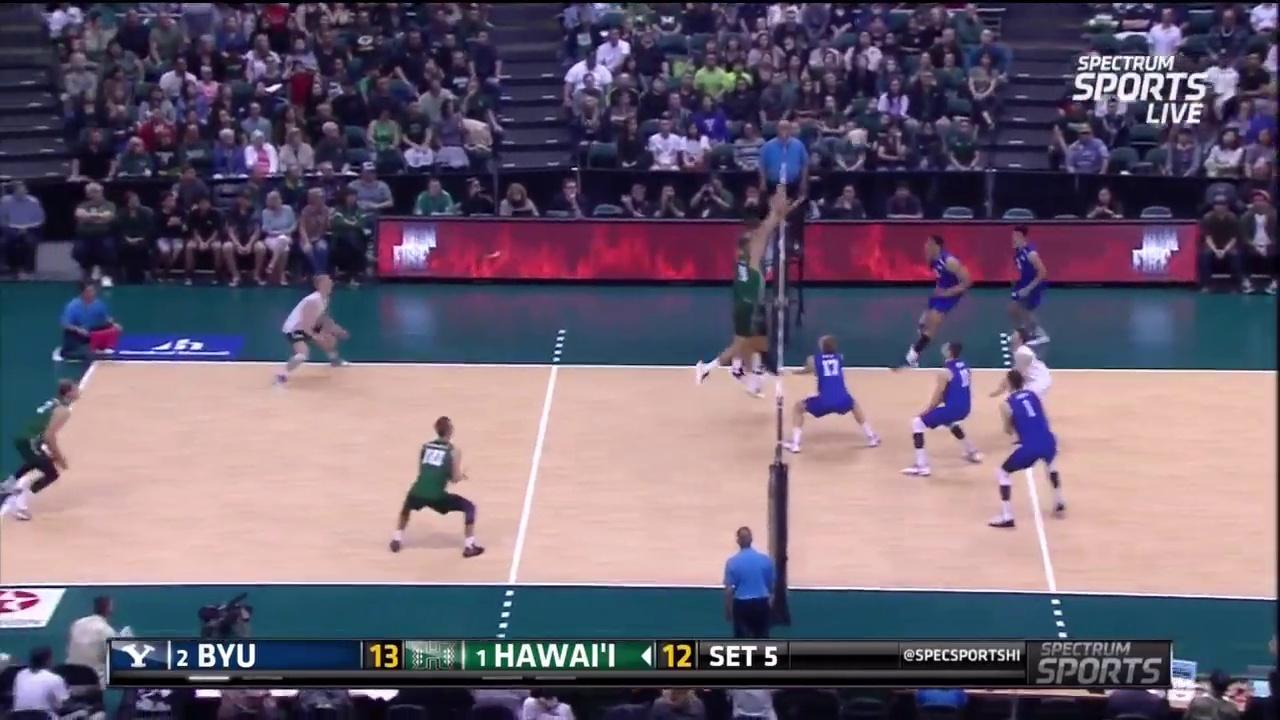player: (987, 369, 1076, 530), (0, 378, 87, 536), (390, 418, 486, 555), (783, 332, 882, 454), (902, 343, 980, 477), (993, 220, 1061, 354), (274, 273, 351, 391), (715, 237, 768, 401), (905, 238, 968, 365), (739, 206, 779, 376), (997, 327, 1054, 438)
refree: (755, 113, 819, 253), (708, 526, 783, 638), (51, 276, 134, 362)
